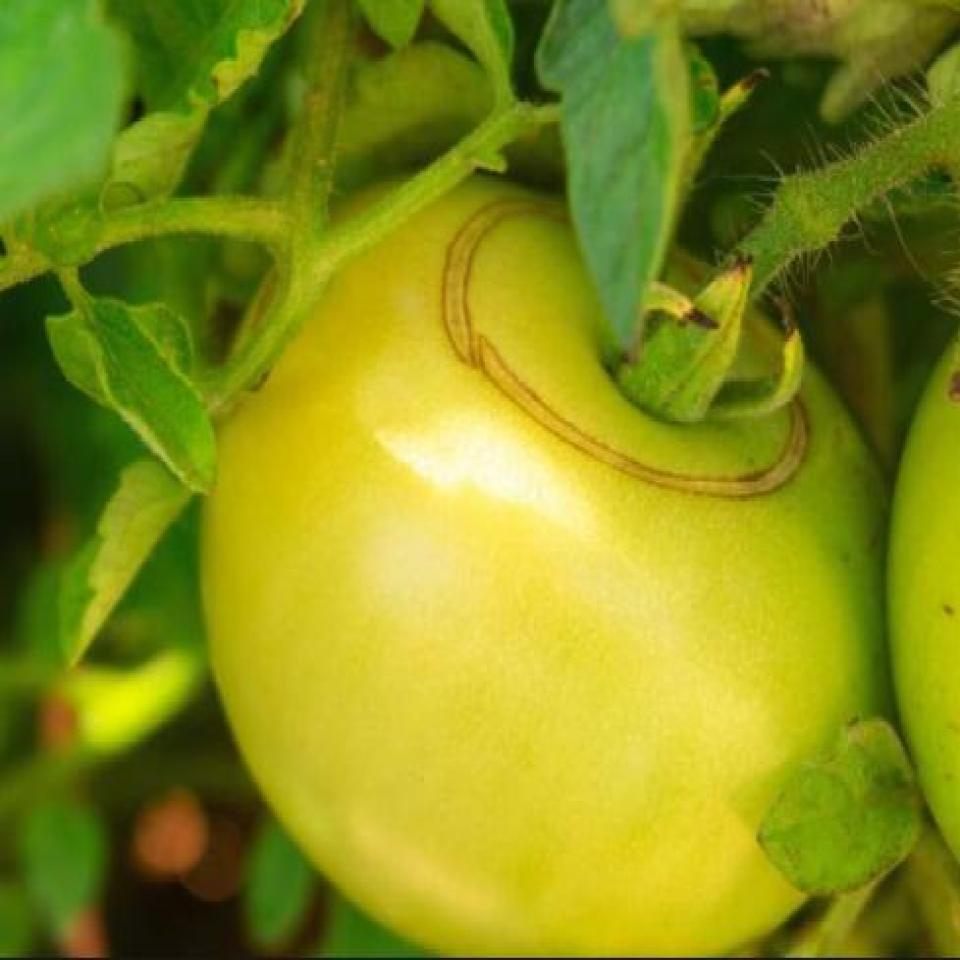Cracking: (405, 170, 821, 526)
